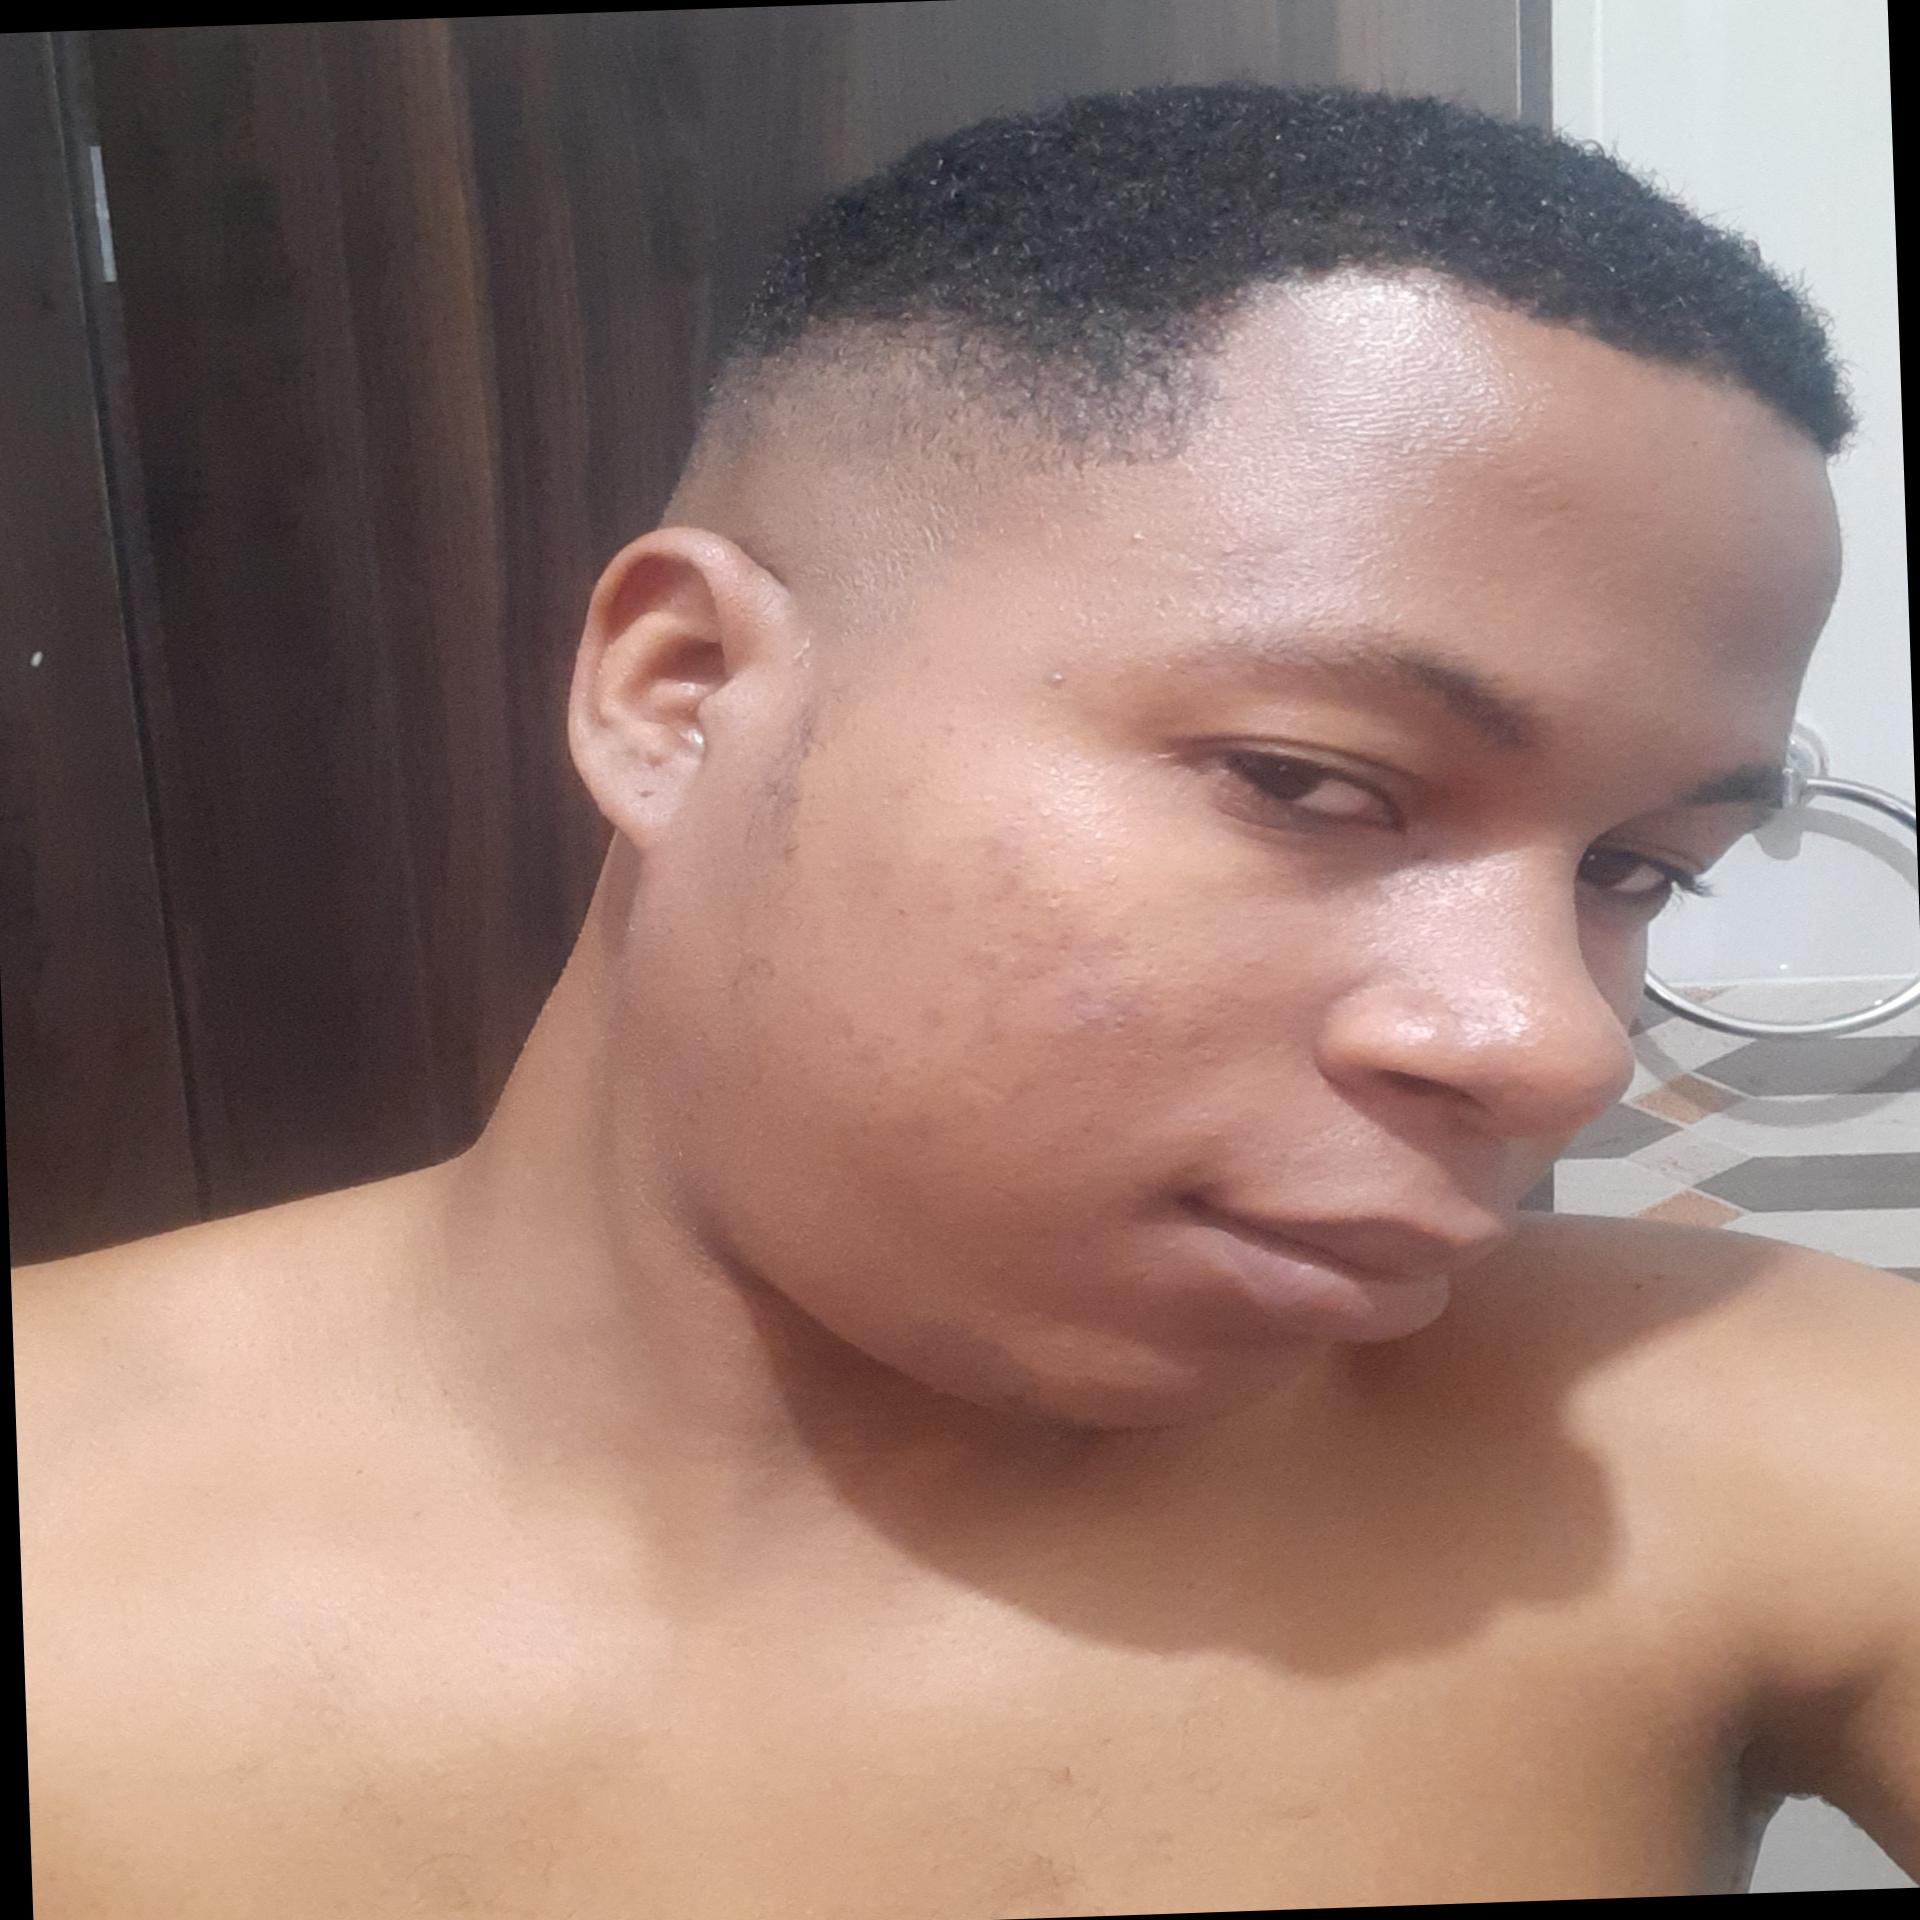Acne: (842, 1009, 890, 1048), (913, 1006, 962, 1041), (1037, 670, 1083, 693), (1122, 522, 1148, 554)
Dry Skin: (793, 626, 839, 670)
Englarged Pores: (1032, 962, 1218, 1108), (988, 847, 1146, 958)
